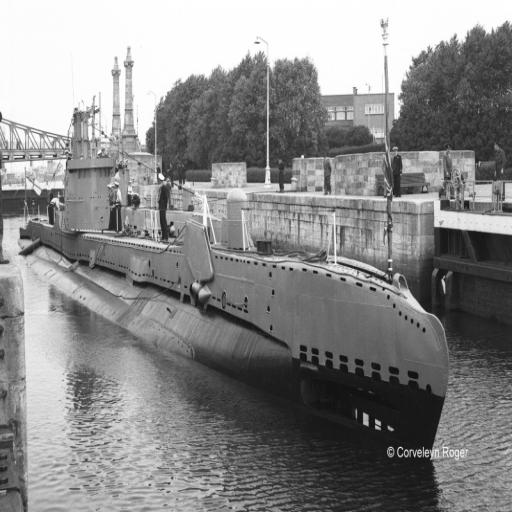submarine: (22, 77, 447, 446)
